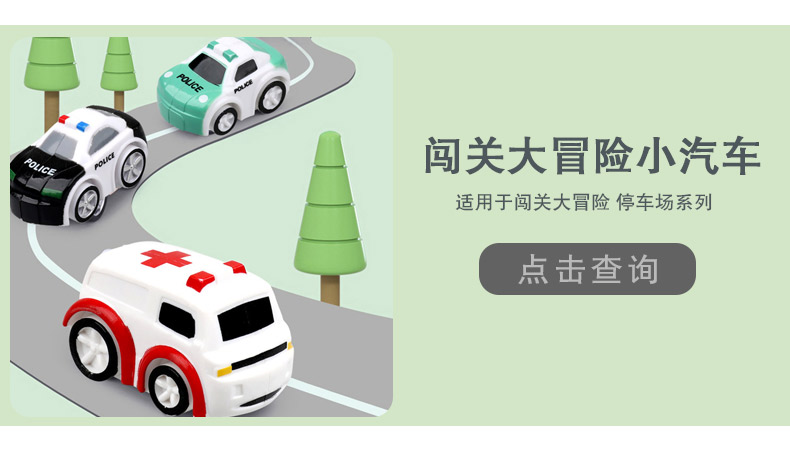Car: (63, 236, 302, 417), (13, 102, 150, 233), (155, 34, 295, 145)
